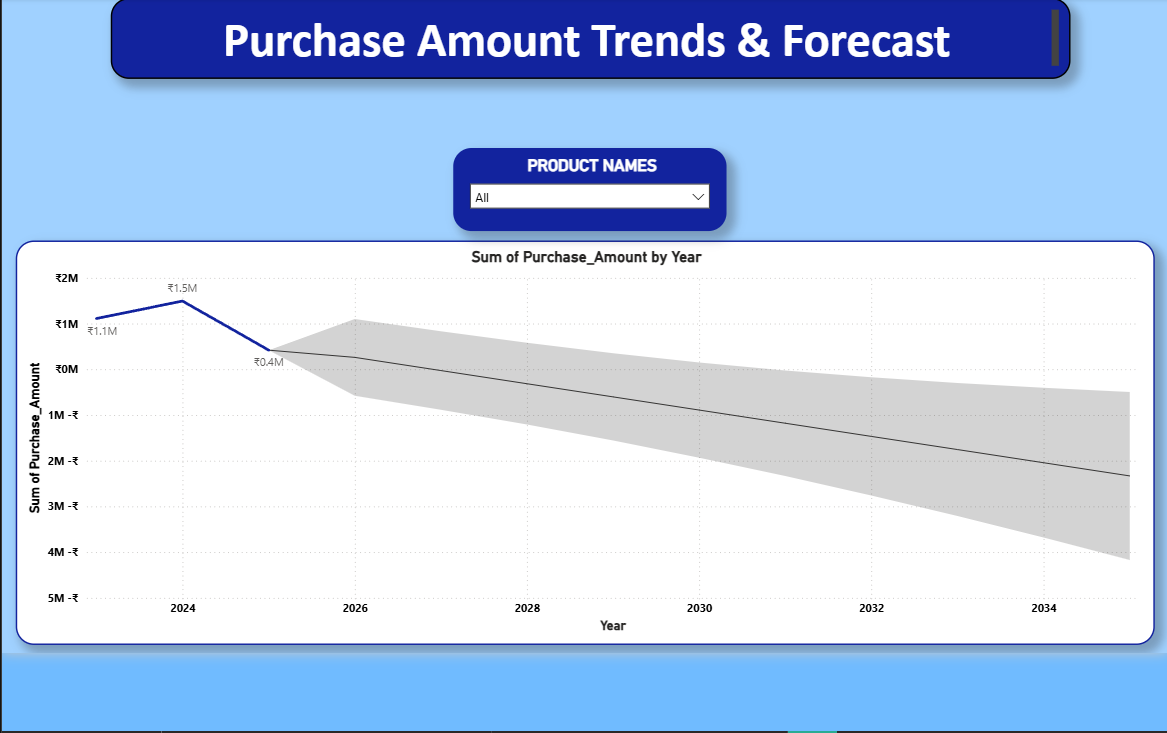

This screenshot's page, from the dashboard's own definition file:
{"tool":"powerbi","page":{"name":"Purchase Amount Trends & Forecast","canvas":[1280,720],"ordinal":1},"visuals":[{"type":"textbox","box":[119.4,0,1053.9,89.2],"z":0},{"type":"lineChart","fields":{"Y":["Sum(retail_sales_customer_satisfact.Purchase_Amount)"],"Category":["retail_sales_customer_satisfact.Purchase_Date.Variation.Date Hierarchy.Year"]},"box":[15.7,265.7,1250,444.3],"z":1000},{"type":"slicer","title":"PRODUCT NAMES","fields":{"Values":["retail_sales_customer_satisfact.Product_Name"]},"box":[495.7,164.3,300,91.4],"z":1001}]}

Visuals, with their boxes in screenshot pixels (x1, y1, x2, y2):
textbox: box(92, 0, 1040, 80)
lineChart - Sum(retail_sales_customer_satisfact.Purchase_Amount) x retail_sales_customer_satisfact.Purchase_Date.Variation.Date Hierarchy.Year: box(0, 239, 1123, 638)
"PRODUCT NAMES" slicer: box(430, 148, 700, 230)
